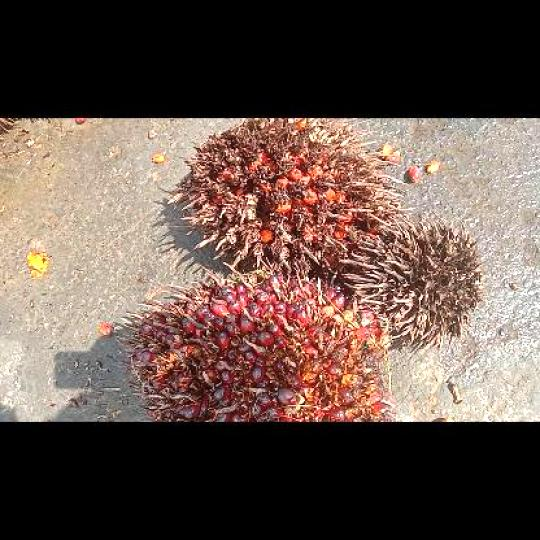masak: (115, 257, 396, 421)
terlalu masak: (167, 117, 404, 280)
